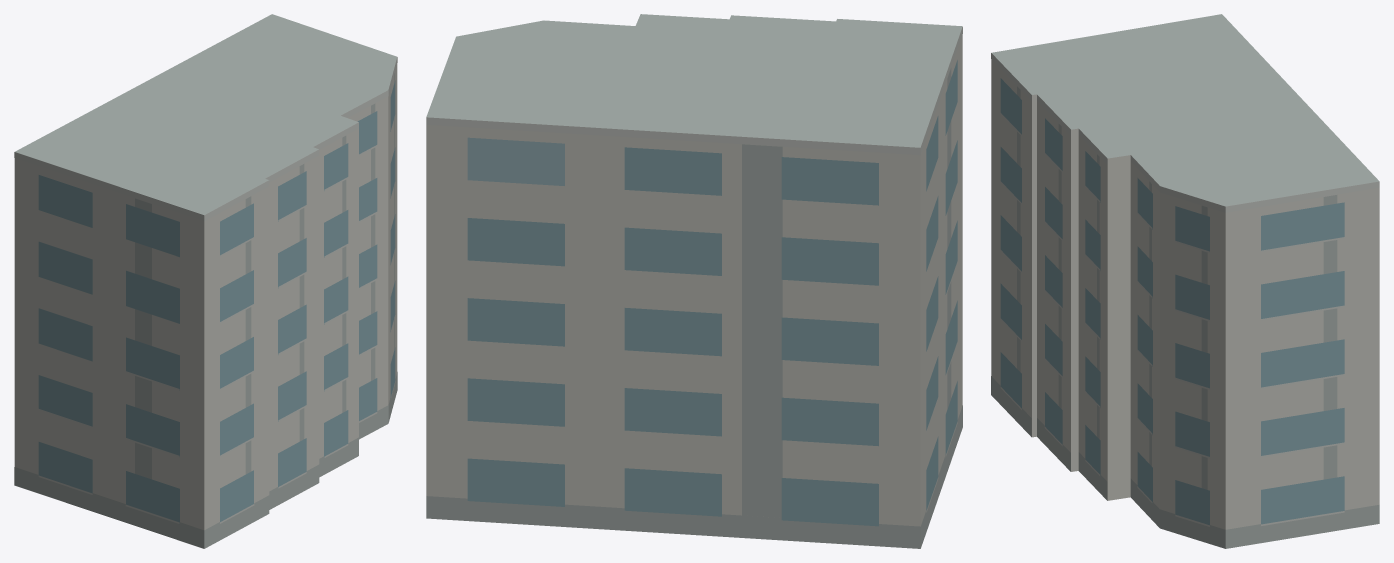
File: survey-upis-32649147.glb
The picture shows the model from 3 angles, left to right: view 1: azimuth 30°, elevation 25°; view 2: azimuth 150°, elevation 25°; view 3: azimuth 270°, elevation 25°; orthographic projection. The views are drawn at different scales.
Visible parts, largest first — view 1: survey-upis-32649147.tmp; view 2: survey-upis-32649147.tmp; view 3: survey-upis-32649147.tmp.
Part boxes in pixels (x1,y1,x2,y2): survey-upis-32649147.tmp: (14, 14, 397, 548); survey-upis-32649147.tmp: (426, 14, 962, 548); survey-upis-32649147.tmp: (991, 14, 1379, 548).
Bounding box in the file's own units: 15.69 × 13 × 13.38.
